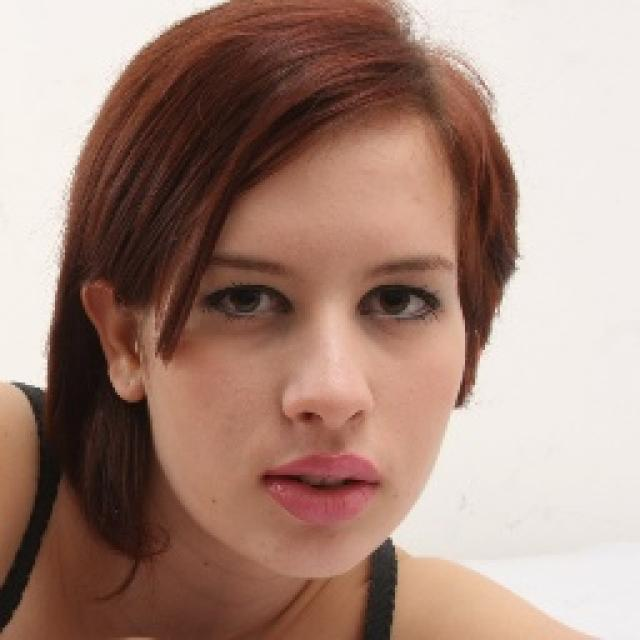earlobe: (79, 278, 146, 404)
